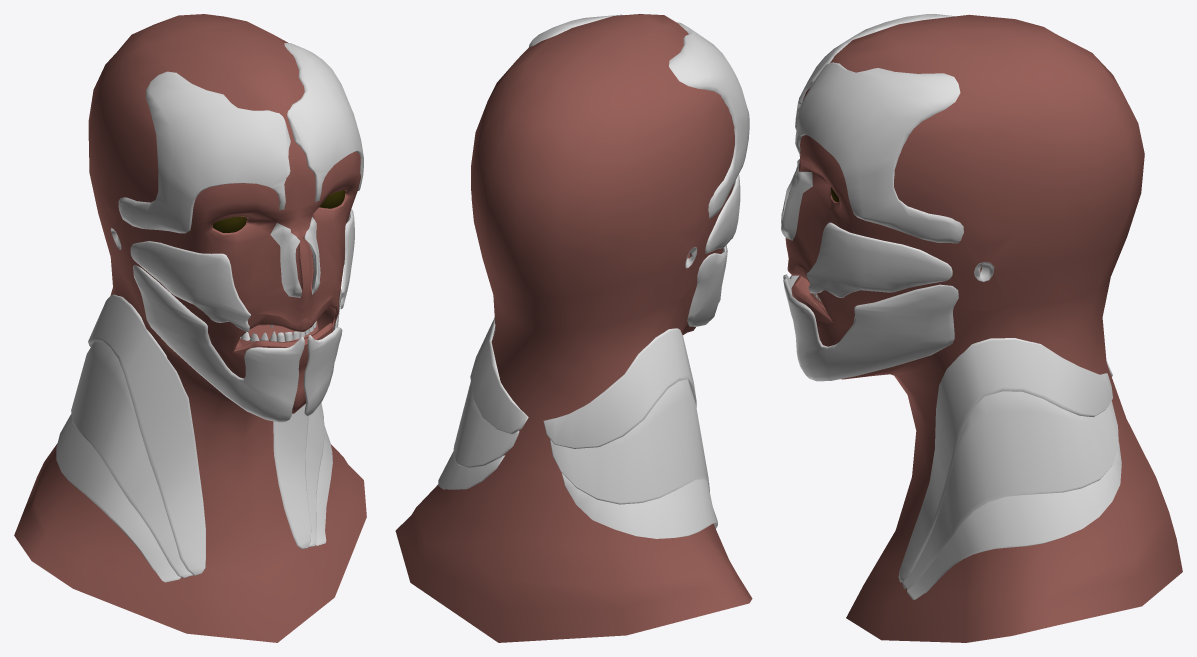
The model's file is BoneMuscleBust.fbx.
The picture shows the model from 3 angles, left to right: view 1: azimuth 30°, elevation 25°; view 2: azimuth 150°, elevation 25°; view 3: azimuth 270°, elevation 25°; orthographic projection. The views are drawn at different scales.
Visible parts, largest first — view 1: Headface, Forehead_R, TopGil_R, MiddleGil_R, Jaw_R, Forehead_L, Cheek_R, BottomGil_R, TopGil_L, Jaw_L, MiddleGil_L, BottomGil_L1 (+1 smaller); view 2: Headface, MiddleGil_R, TopGil_R, BottomGil_R, Forehead_R, TopGil_L, MiddleGil_L, Jaw_R, Cheek_R, BottomGil_L1, Forehead_L; view 3: Headface, MiddleGil_L, Forehead_L, TopGil_L, Jaw_L, BottomGil_L1, Cheek_L, Forehead_R.
Part boxes in pixels (bbox=[...]): Headface: bbox=[14, 14, 366, 642]; Forehead_R: bbox=[118, 71, 290, 233]; TopGil_R: bbox=[88, 294, 205, 575]; MiddleGil_R: bbox=[71, 341, 193, 577]; Jaw_R: bbox=[133, 264, 304, 422]; Forehead_L: bbox=[284, 43, 363, 202]; Cheek_R: bbox=[130, 241, 250, 331]; BottomGil_R: bbox=[56, 414, 180, 582]; TopGil_L: bbox=[273, 404, 311, 548]; Jaw_L: bbox=[303, 289, 342, 416]; MiddleGil_L: bbox=[305, 403, 324, 546]; BottomGil_L1: bbox=[316, 425, 332, 545]; Headface: bbox=[395, 14, 752, 642]; MiddleGil_R: bbox=[550, 379, 709, 504]; TopGil_R: bbox=[543, 328, 696, 448]; BottomGil_R: bbox=[562, 473, 717, 538]; Forehead_R: bbox=[669, 22, 749, 218]; TopGil_L: bbox=[470, 318, 528, 434]; MiddleGil_L: bbox=[453, 336, 519, 468]; Jaw_R: bbox=[687, 245, 727, 326]; Cheek_R: bbox=[705, 174, 740, 253]; BottomGil_L1: bbox=[438, 451, 504, 489]; Forehead_L: bbox=[529, 14, 624, 47]; Headface: bbox=[781, 14, 1182, 642]; MiddleGil_L: bbox=[902, 391, 1118, 588]; Forehead_L: bbox=[795, 62, 963, 243]; TopGil_L: bbox=[898, 338, 1112, 582]; Jaw_L: bbox=[783, 278, 958, 381]; BottomGil_L1: bbox=[907, 442, 1121, 599]; Cheek_L: bbox=[806, 222, 952, 297]; Forehead_R: bbox=[795, 14, 954, 129].
Bounding box in the file's own units: 8.18 × 13.26 × 8.22.
